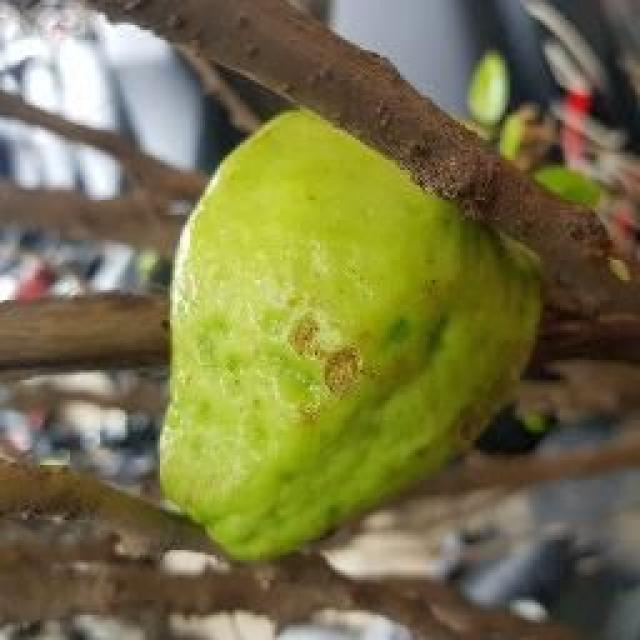Good_Guava: (158, 110, 545, 565)
